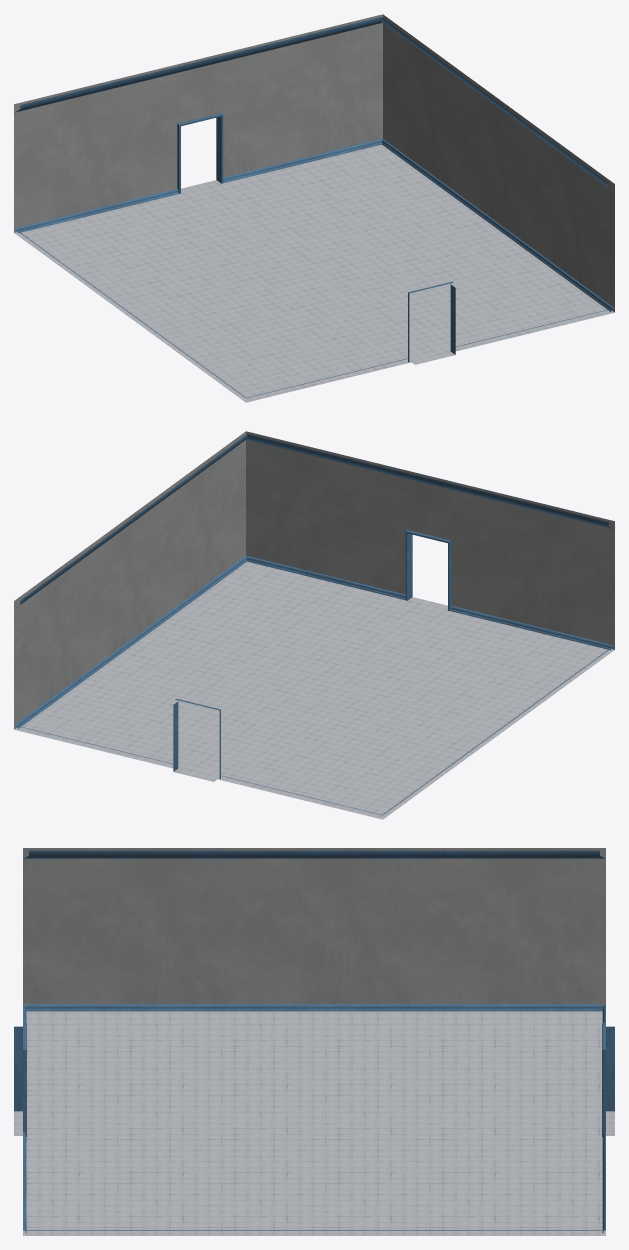
The model's file is PZ_room2_big.glb.
3 renders of one model, top to bottom at view 1: azimuth 30°, elevation 25°; view 2: azimuth 150°, elevation 25°; view 3: azimuth 270°, elevation 25°, orthographic. The views are drawn at different scales.
Visible parts, largest first — view 1: PZ_HallwayI; view 2: PZ_HallwayI; view 3: PZ_HallwayI.
Boxes of the visible parts, bbox=[...] form: PZ_HallwayI: bbox=[14, 14, 614, 402]; PZ_HallwayI: bbox=[14, 431, 614, 819]; PZ_HallwayI: bbox=[14, 848, 614, 1235].
Bounding box in the file's own units: 18.24 × 6.08 × 20.48.
Materials: 3 (3 with a texture image).
